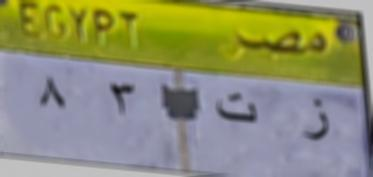3: (105, 76, 139, 121)
8: (36, 72, 68, 118)
taa: (213, 88, 260, 132)
zay: (300, 90, 333, 148)
